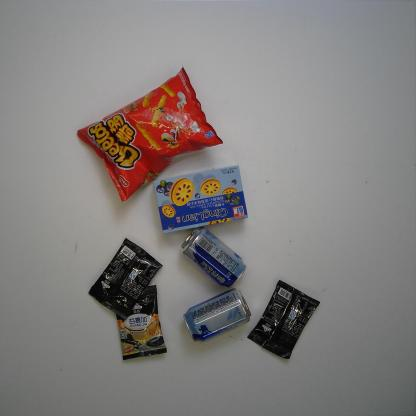Alcohol: (180, 226, 248, 289), (184, 286, 253, 345)
Dessert: (147, 164, 248, 236)
Instant Drink: (86, 236, 162, 324), (246, 278, 323, 362), (115, 283, 169, 362)
Puffed Food: (76, 62, 226, 204)
